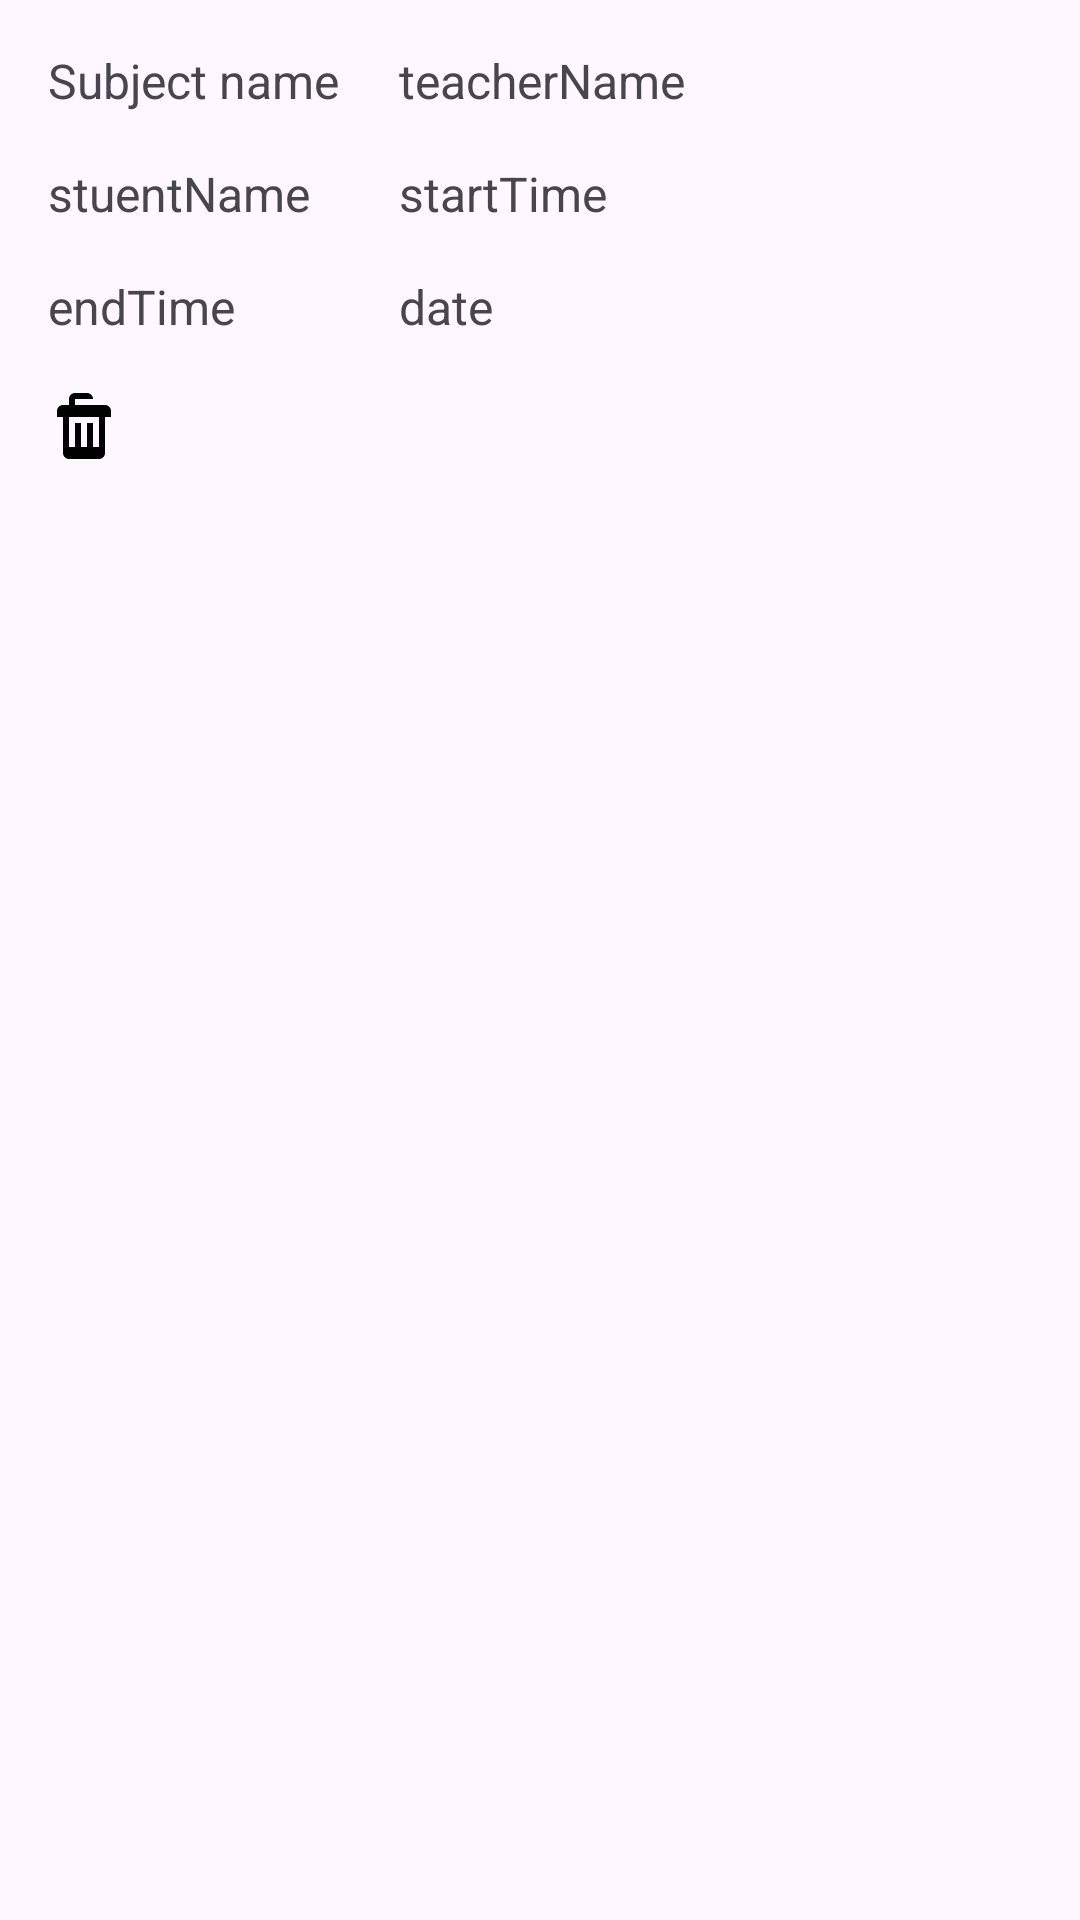

Icon bounding boxes for this 1080w x 1920h phone screenshot, format (x1, y1, x2, y2):
delete: (57, 393, 111, 459)
